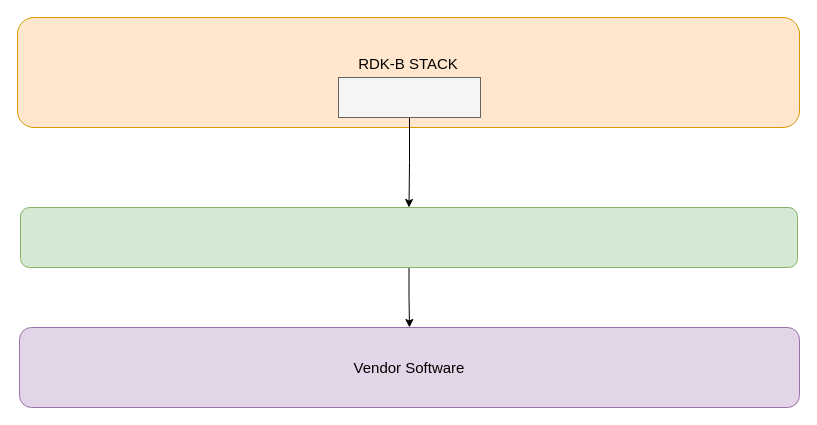
This 817x425 diagram has some shape labels left out. The shapes that lost their labels are listed below. From the top down, each one's centre as x and y in pixels, then its label:
At (x=409, y=97): "RDK Thermal Manager".
At (x=409, y=237): "Fan and Thermal HAL (libhal_thermal)".
